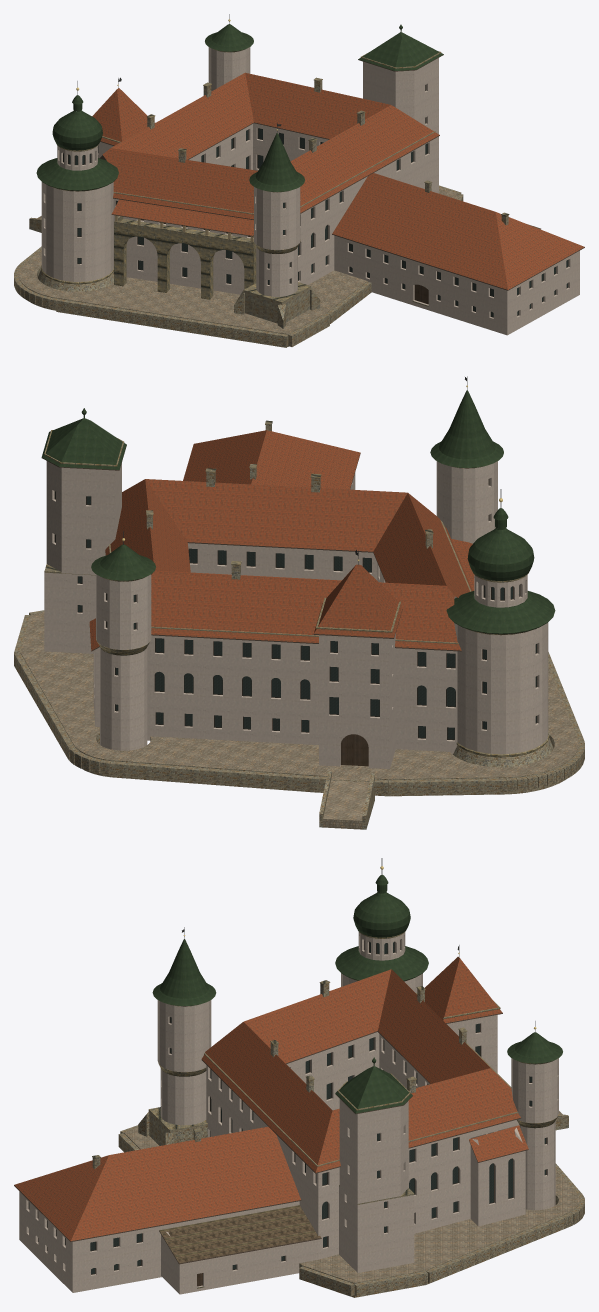
File: zamek_caly_lekki.glb
The picture shows the model from 3 angles, top to bottom: view 1: azimuth 30°, elevation 25°; view 2: azimuth 150°, elevation 25°; view 3: azimuth 270°, elevation 25°; orthographic projection. The views are drawn at different scales.
Visible parts, largest first — view 1: korpus_dach__dachowka, kmitowka_dach__dachowka, kmitowka_mur__tynk, korpus_mur_zew__tynk, taras_nawierzchnia__bruk, bona_mur__tynk, taras_mur__kamien_mur, galeria_arkady__kamien_detal, wE_gora__tynk, korpus_mur_dz__tynk, wS_gora_mur__tynk, galeria_dach__dachowka (+19 smaller); view 2: korpus_dach__dachowka, korpus_mur_zew__tynk, taras_nawierzchnia__bruk, bona_mur__tynk, taras_mur__kamien_mur, ryzalit_mur__tynk, kmitowka_dach__dachowka, wE_gora__tynk, wN_mur__tynk, korpus_mur_dz__tynk, wS_gora_mur__tynk, ryzalit_dach__dachowka (+20 smaller); view 3: korpus_dach__dachowka, kmitowka_dach__dachowka, korpus_mur_zew__tynk, kmitowka_mur__tynk, wE_gora__tynk, taras_nawierzchnia__bruk, przybudowka_dach__gont, wE_dol__tynk, przybudowka_mur__tynk, taras_mur__kamien_mur, korpus_mur_dz__tynk, wS_gora_mur__tynk (+18 smaller).
Boxes of the visible parts, left/top/right/bottom form: korpus_dach__dachowka: left=102, top=72, right=439, bottom=219; kmitowka_dach__dachowka: left=332, top=173, right=584, bottom=289; kmitowka_mur__tynk: left=334, top=235, right=579, bottom=335; korpus_mur_zew__tynk: left=113, top=140, right=432, bottom=294; taras_nawierzchnia__bruk: left=18, top=187, right=458, bottom=333; bona_mur__tynk: left=41, top=182, right=113, bottom=284; taras_mur__kamien_mur: left=14, top=185, right=463, bottom=347; galeria_arkady__kamien_detal: left=114, top=227, right=256, bottom=299; wE_gora__tynk: left=363, top=58, right=438, bottom=140; korpus_mur_dz__tynk: left=189, top=123, right=328, bottom=170; wS_gora_mur__tynk: left=254, top=187, right=300, bottom=249; galeria_dach__dachowka: left=112, top=199, right=253, bottom=235; korpus_dach__dachowka: left=105, top=479, right=472, bottom=650; korpus_mur_zew__tynk: left=147, top=596, right=457, bottom=754; taras_nawierzchnia__bruk: left=20, top=612, right=578, bottom=779; bona_mur__tynk: left=454, top=622, right=548, bottom=757; taras_mur__kamien_mur: left=14, top=610, right=584, bottom=793; ryzalit_mur__tynk: left=319, top=633, right=395, bottom=768; kmitowka_dach__dachowka: left=183, top=430, right=360, bottom=489; wE_gora__tynk: left=46, top=461, right=121, bottom=574; wN_mur__tynk: left=100, top=647, right=147, bottom=750; korpus_mur_dz__tynk: left=188, top=543, right=385, bottom=582; wS_gora_mur__tynk: left=436, top=461, right=497, bottom=543; ryzalit_dach__dachowka: left=313, top=564, right=402, bottom=637; korpus_dach__dachowka: left=202, top=969, right=520, bottom=1172; kmitowka_dach__dachowka: left=14, top=1126, right=300, bottom=1241; korpus_mur_zew__tynk: left=206, top=1065, right=519, bottom=1259; kmitowka_mur__tynk: left=19, top=1191, right=299, bottom=1292; wE_gora__tynk: left=339, top=1099, right=408, bottom=1204; taras_nawierzchnia__bruk: left=124, top=1127, right=579, bottom=1282; przybudowka_dach__gont: left=159, top=1205, right=321, bottom=1263; wE_dol__tynk: left=339, top=1186, right=414, bottom=1272; przybudowka_mur__tynk: left=161, top=1231, right=318, bottom=1294; taras_mur__kamien_mur: left=118, top=1125, right=584, bottom=1296; korpus_mur_dz__tynk: left=286, top=1032, right=429, bottom=1110; wS_gora_mur__tynk: left=157, top=1000, right=211, bottom=1072.
Bounding box in the file's own units: 82.35 × 38.51 × 83.43.
Materials: 15 (12 with a texture image).
